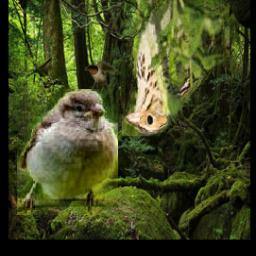Sparrow: (122, 0, 230, 137), (18, 90, 119, 216)
Swallow: (85, 60, 115, 83)
